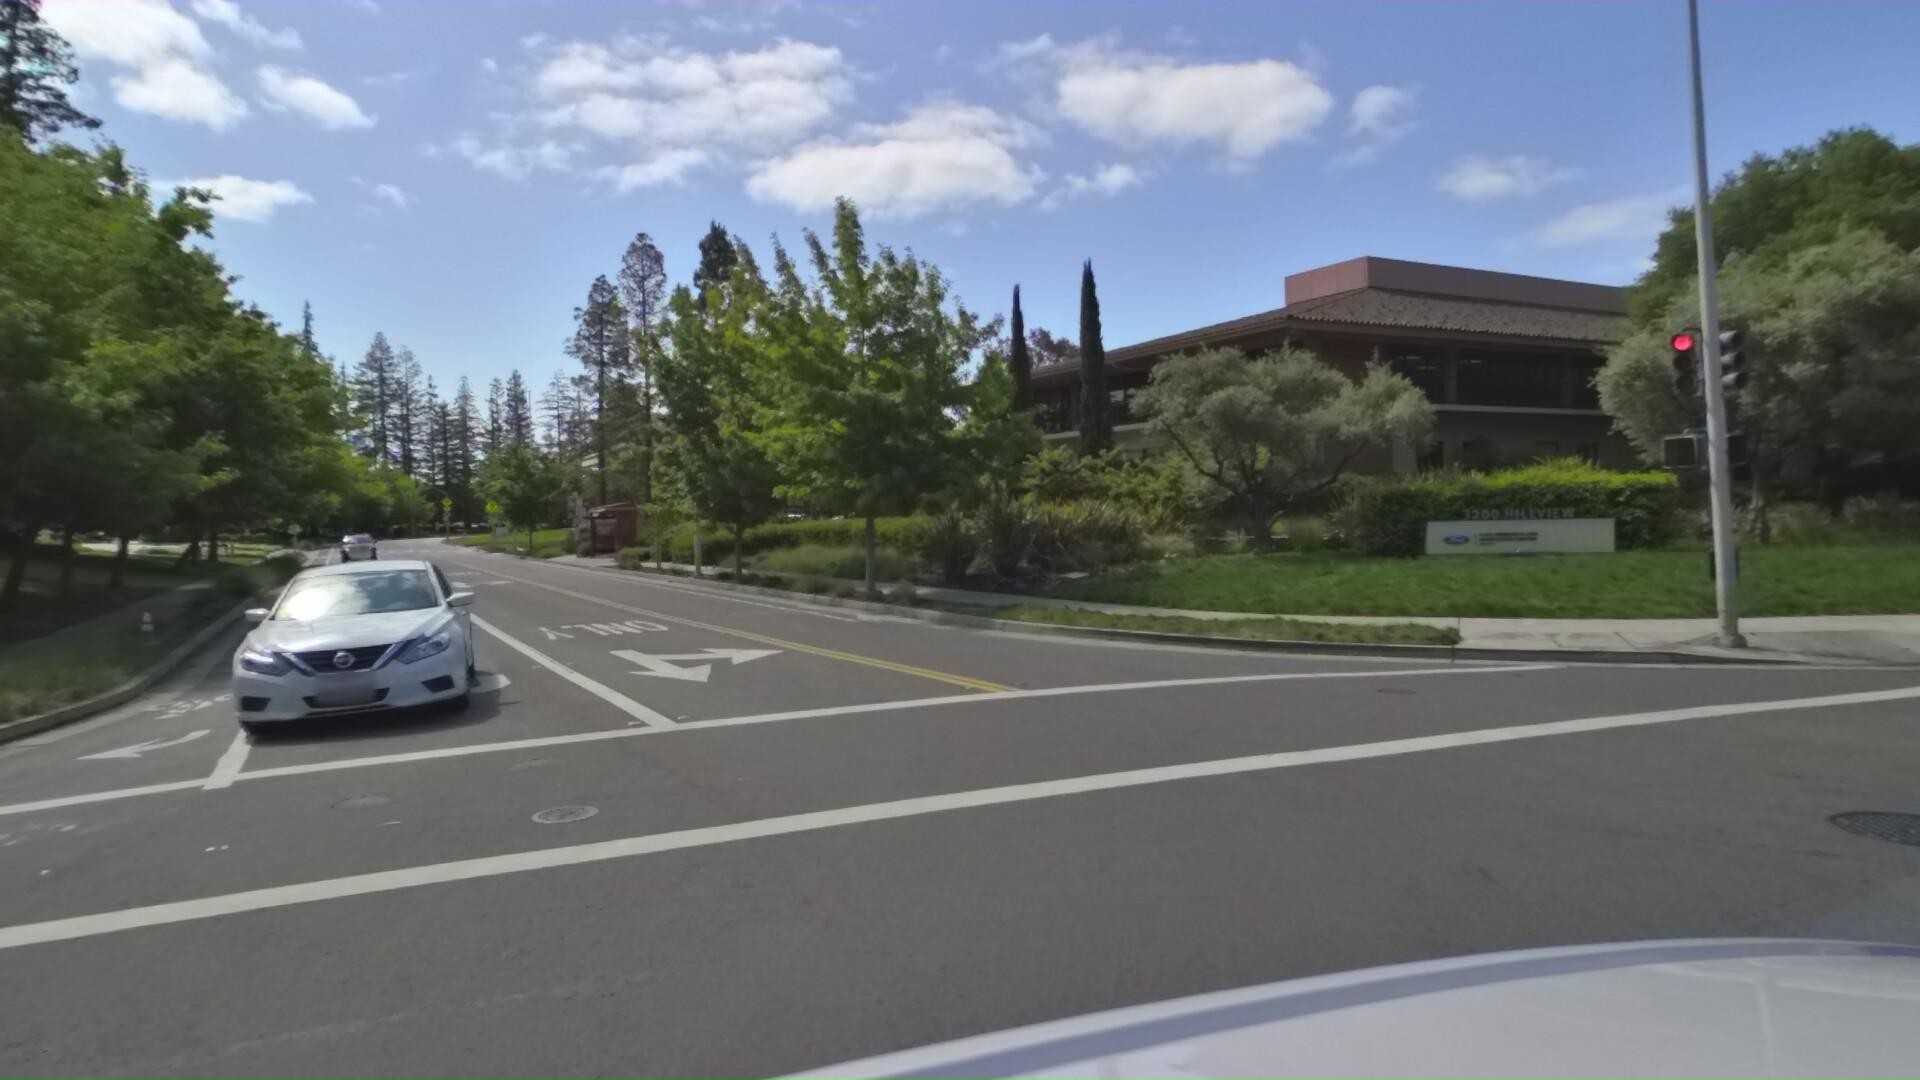car: (233, 534, 497, 752), (343, 531, 385, 564)
